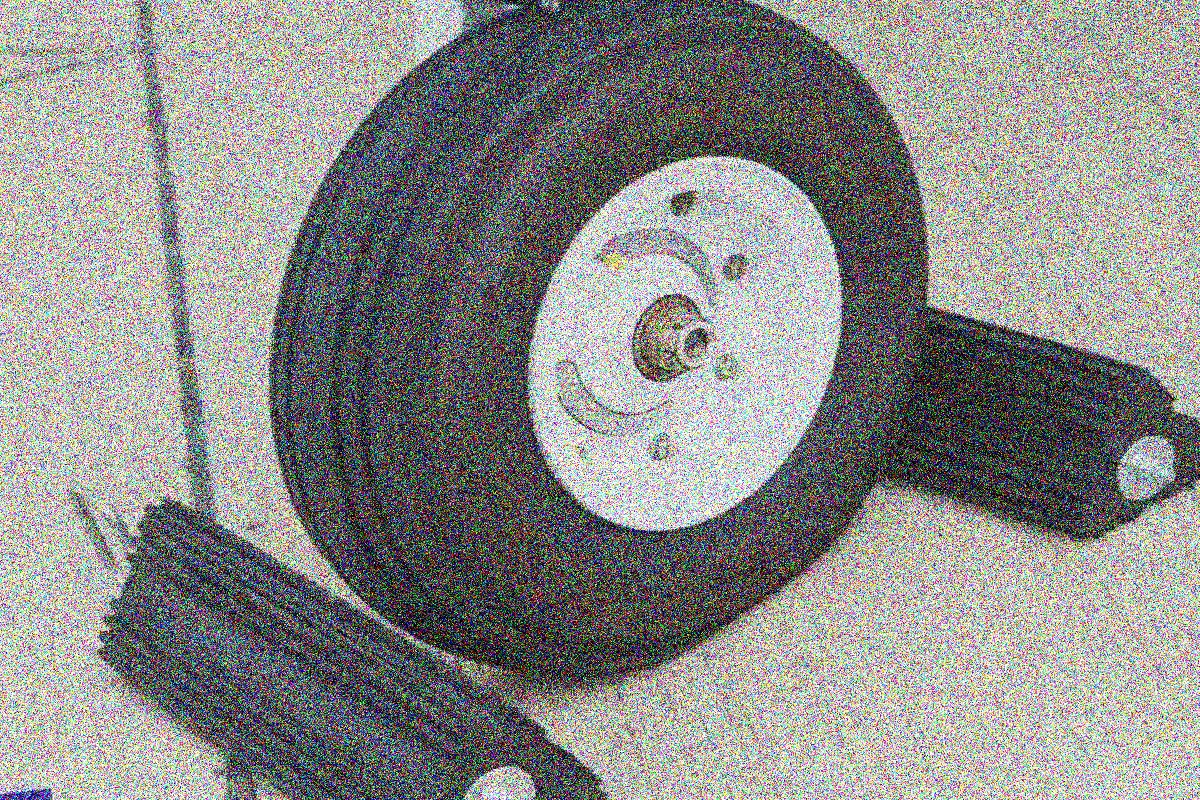chock: (17, 445, 620, 800), (807, 242, 1200, 577)
wheel: (236, 0, 970, 702)
